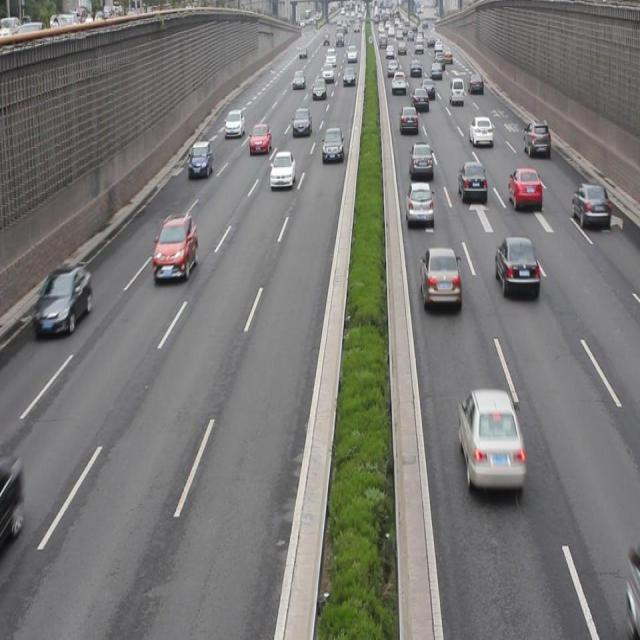car: (457, 384, 522, 492), (34, 263, 92, 336), (153, 212, 197, 282), (494, 235, 539, 295), (419, 245, 460, 306), (570, 180, 610, 230), (507, 165, 540, 212), (406, 180, 434, 227), (456, 160, 486, 203), (268, 149, 295, 190), (522, 119, 549, 156), (188, 140, 212, 181), (408, 142, 433, 180), (321, 125, 344, 163), (249, 122, 271, 157), (468, 115, 492, 146), (291, 106, 312, 138), (224, 107, 244, 138), (399, 105, 418, 136)
